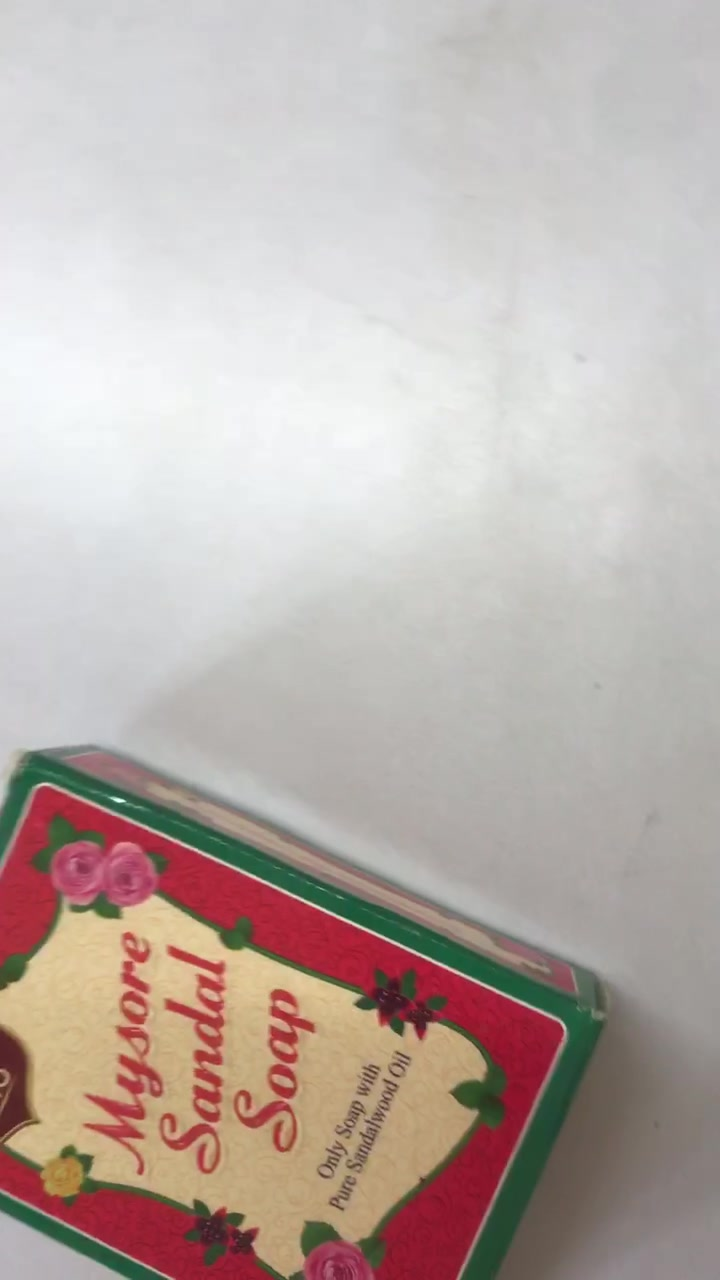mysore sandal soap: (9, 737, 574, 1280)
